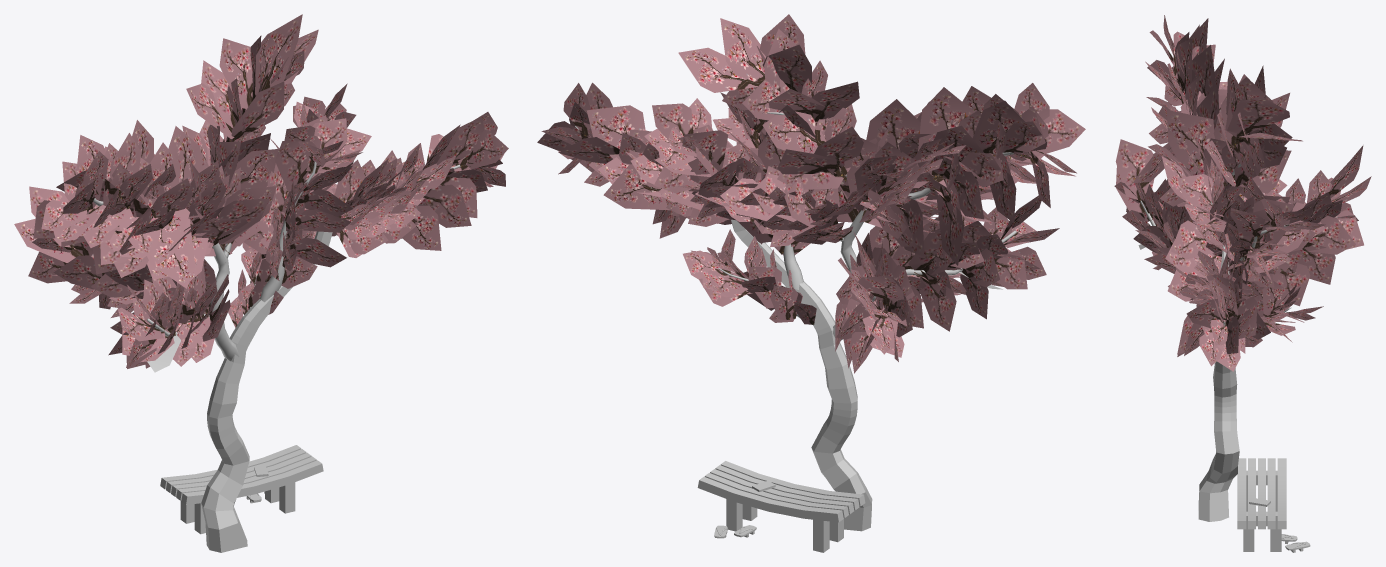
File: Prop_Tree.obj
3 views of the same model, side by side, from view 1: azimuth 30°, elevation 25°; view 2: azimuth 150°, elevation 25°; view 3: azimuth 270°, elevation 25° (orthographic). The views are drawn at different scales.
Parts seen in each view (by area): view 1: Loft002, Box002, Plane525, Plane531, Plane207, Plane336, Plane522, Plane402, Plane542, Plane226, Plane115, Plane171 (+30 smaller); view 2: Loft002, Box002, Plane522, Plane527, Plane090, Plane202, Plane209, Plane534, Plane115, Plane073, Plane525, Plane539 (+34 smaller); view 3: Loft002, Box002, Plane348, Plane522, Plane022, Plane457, Plane401, Plane456, Plane395, Plane090, Plane469, Plane083 (+41 smaller).
Part boxes in pixels (x1=…): Loft002: x1=93, y1=161, x2=466, y2=552; Box002: x1=160, y1=445, x2=323, y2=534; Plane525: x1=219, y1=38, x2=252, y2=108; Plane531: x1=231, y1=81, x2=284, y2=140; Plane207: x1=421, y1=184, x2=471, y2=227; Plane336: x1=146, y1=218, x2=195, y2=288; Plane522: x1=261, y1=14, x2=302, y2=90; Plane402: x1=275, y1=141, x2=316, y2=191; Plane542: x1=224, y1=149, x2=278, y2=189; Plane226: x1=402, y1=205, x2=441, y2=250; Plane115: x1=168, y1=126, x2=203, y2=224; Plane171: x1=436, y1=116, x2=484, y2=166; Loft002: x1=575, y1=112, x2=1016, y2=531; Box002: x1=697, y1=461, x2=865, y2=552; Plane522: x1=720, y1=18, x2=766, y2=83; Plane527: x1=678, y1=47, x2=759, y2=92; Plane090: x1=916, y1=87, x2=974, y2=175; Plane202: x1=586, y1=105, x2=645, y2=165; Plane209: x1=603, y1=164, x2=670, y2=210; Plane534: x1=762, y1=111, x2=826, y2=163; Plane115: x1=866, y1=99, x2=920, y2=149; Plane073: x1=972, y1=100, x2=1024, y2=153; Plane525: x1=762, y1=44, x2=811, y2=93; Plane539: x1=814, y1=126, x2=863, y2=176; Loft002: x1=1140, y1=163, x2=1291, y2=521; Box002: x1=1237, y1=458, x2=1286, y2=551; Plane348: x1=1167, y1=110, x2=1214, y2=176; Plane522: x1=1227, y1=96, x2=1289, y2=134; Plane022: x1=1115, y1=139, x2=1153, y2=200; Plane457: x1=1308, y1=215, x2=1355, y2=254; Plane401: x1=1171, y1=220, x2=1214, y2=259; Plane456: x1=1300, y1=242, x2=1335, y2=284; Plane395: x1=1177, y1=174, x2=1216, y2=215; Plane090: x1=1192, y1=45, x2=1215, y2=96; Plane469: x1=1278, y1=260, x2=1310, y2=306; Plane083: x1=1175, y1=38, x2=1192, y2=102.
Size of the model in its own units: 482 by 457 by 228.
